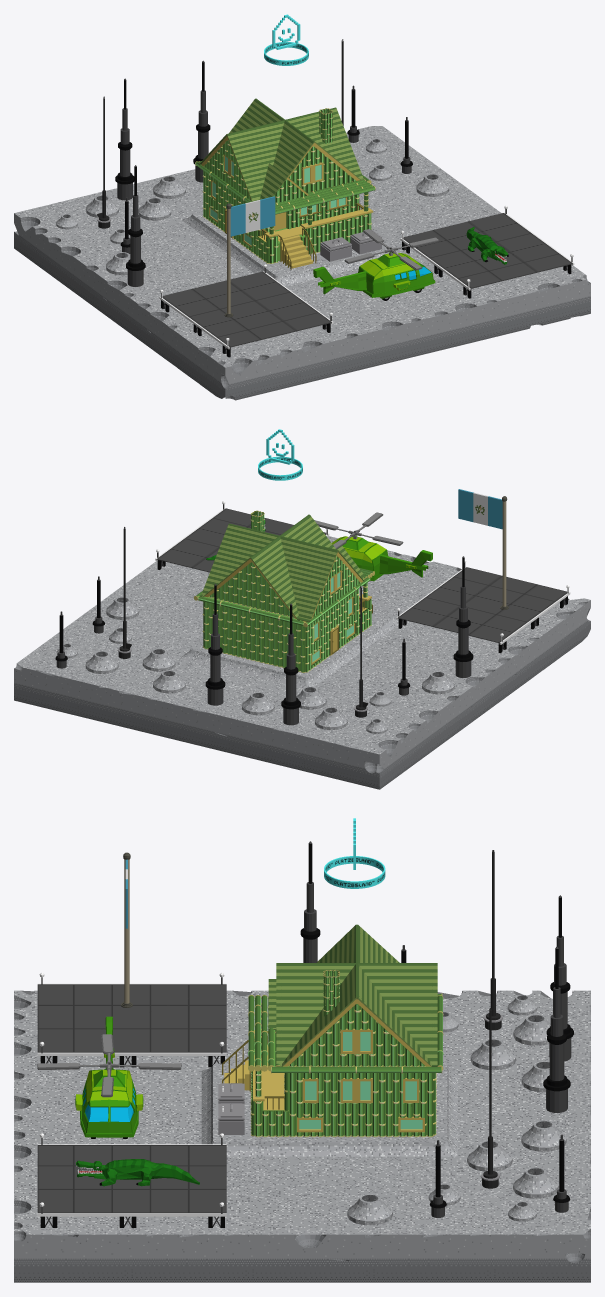
3 renders of one model, top to bottom at view 1: azimuth 30°, elevation 25°; view 2: azimuth 150°, elevation 25°; view 3: azimuth 270°, elevation 25°, orthographic. The views are drawn at different scales.
Parts seen in each view (by area): view 1: Cube.027, Cube.1327, Cube.025, Cube.026, VEHICLES_HELICOPTER, Cube.028, OBJRANDOM_GUATEMALAN_FLAG, Cylinder.021, Cylinder.020, TYPE_PREMIUM, Cylinder.017, ANIMAL_COCODRILO (+5 smaller); view 2: Cube.027, Cube.1327, Cube.025, Cube.028, Cube.026, VEHICLES_HELICOPTER, OBJRANDOM_GUATEMALAN_FLAG, Cylinder.017, Cylinder.021, Cylinder.020, TYPE_PREMIUM, Cylinder.030 (+8 smaller); view 3: Cube.027, Cube.1327, Cube.025, Cube.026, Cube.028, VEHICLES_HELICOPTER, Cylinder.017, ANIMAL_COCODRILO, Cylinder.020, Cylinder.021, TYPE_PREMIUM, Cylinder.033 (+12 smaller).
Part boxes in pixels (left/top/right/bottom): Cube.027: left=14, top=126, right=590, bottom=400; Cube.1327: left=195, top=98, right=375, bottom=269; Cube.025: left=159, top=264, right=333, bottom=357; Cube.026: left=400, top=205, right=574, bottom=298; VEHICLES_HELICOPTER: left=313, top=229, right=439, bottom=300; Cube.028: left=182, top=211, right=399, bottom=286; OBJRANDOM_GUATEMALAN_FLAG: left=224, top=196, right=275, bottom=317; Cylinder.021: left=126, top=165, right=145, bottom=286; Cylinder.020: left=115, top=78, right=134, bottom=200; TYPE_PREMIUM: left=264, top=14, right=308, bottom=65; Cylinder.017: left=193, top=60, right=210, bottom=182; ANIMAL_COCODRILO: left=466, top=227, right=508, bottom=264; Cube.027: left=14, top=536, right=590, bottom=789; Cube.1327: left=193, top=510, right=374, bottom=672; Cube.025: left=396, top=560, right=570, bottom=653; Cube.028: left=181, top=610, right=398, bottom=688; Cube.026: left=155, top=501, right=329, bottom=572; VEHICLES_HELICOPTER: left=314, top=512, right=432, bottom=581; OBJRANDOM_GUATEMALAN_FLAG: left=458, top=489, right=508, bottom=609; Cylinder.017: left=205, top=583, right=225, bottom=705; Cylinder.021: left=453, top=556, right=473, bottom=677; Cylinder.020: left=281, top=603, right=300, bottom=725; TYPE_PREMIUM: left=258, top=429, right=302, bottom=480; Cylinder.030: left=142, top=648, right=175, bottom=671; Cube.027: left=14, top=990, right=590, bottom=1282; Cube.1327: left=222, top=924, right=443, bottom=1137; Cube.025: left=37, top=973, right=226, bottom=1067; Cube.026: left=37, top=1133, right=226, bottom=1227; Cube.028: left=201, top=1063, right=457, bottom=1156; VEHICLES_HELICOPTER: left=37, top=1016, right=181, bottom=1138; Cylinder.017: left=543, top=946, right=570, bottom=1112; ANIMAL_COCODRILO: left=76, top=1159, right=199, bottom=1186; Cylinder.020: left=546, top=895, right=573, bottom=1061; Cylinder.021: left=300, top=841, right=320, bottom=962; TYPE_PREMIUM: left=324, top=818, right=385, bottom=888; Cylinder.033: left=347, top=1194, right=392, bottom=1225.
Size of the model in its own units: 4000 by 2703 by 4000.
Materials: 39 (6 with a texture image).
